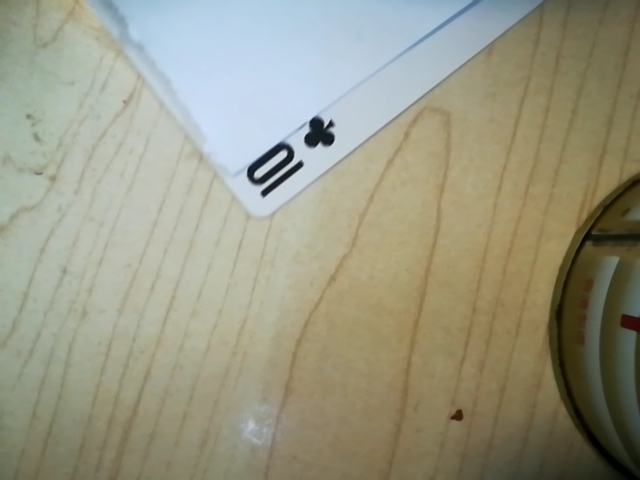mh 10: (232, 109, 347, 209)
